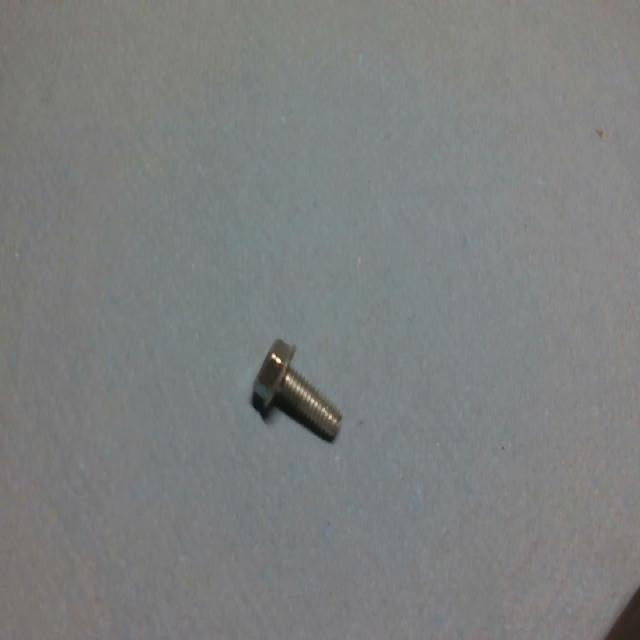Bolt: (247, 336, 352, 454)
